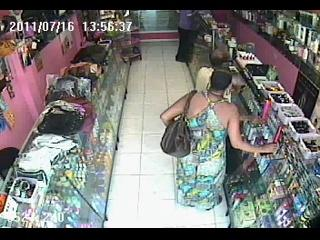Normal: (160, 69, 280, 226), (160, 91, 198, 158), (175, 10, 200, 66)
